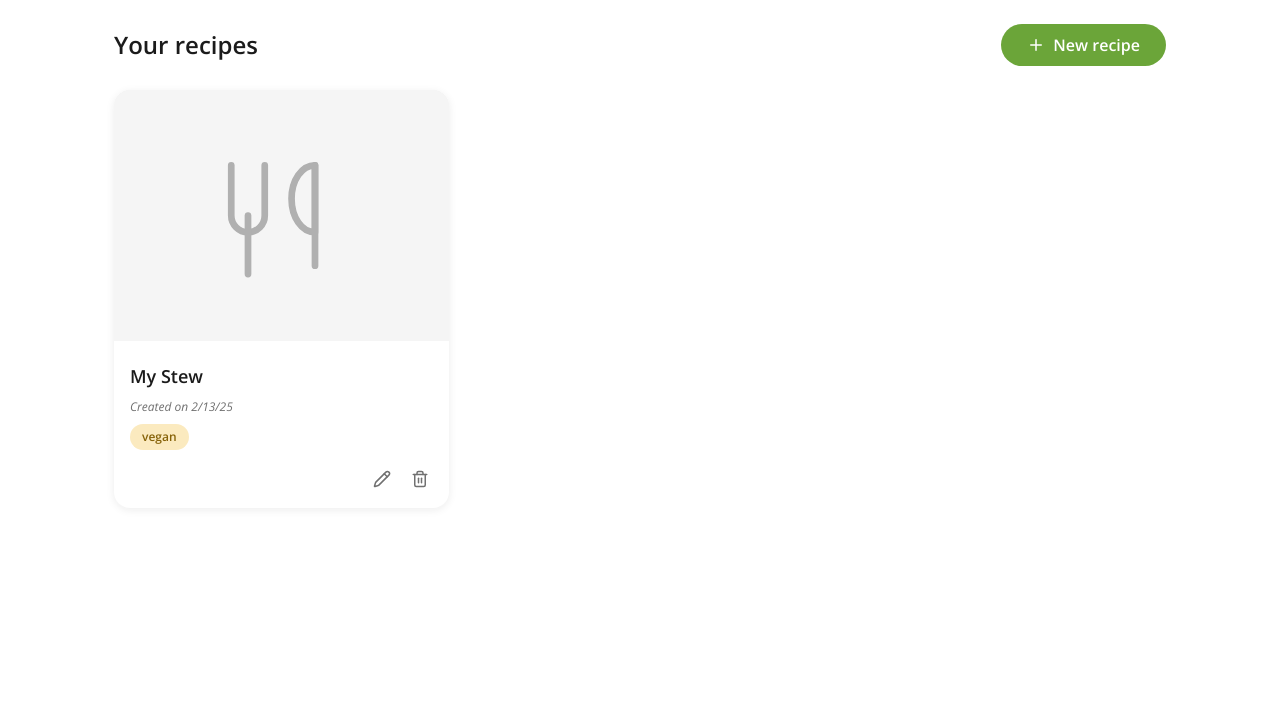
Test: Dashboard page › shows a permission message on a 403 while editing
The width and height of the screenshot is (1280, 720).
Expected: the heading "My Stew" is shown, [130,364,203,388]
Click the button named "Edit My Stew" at (382, 479), box [369,466,395,492]
(page scrolled)
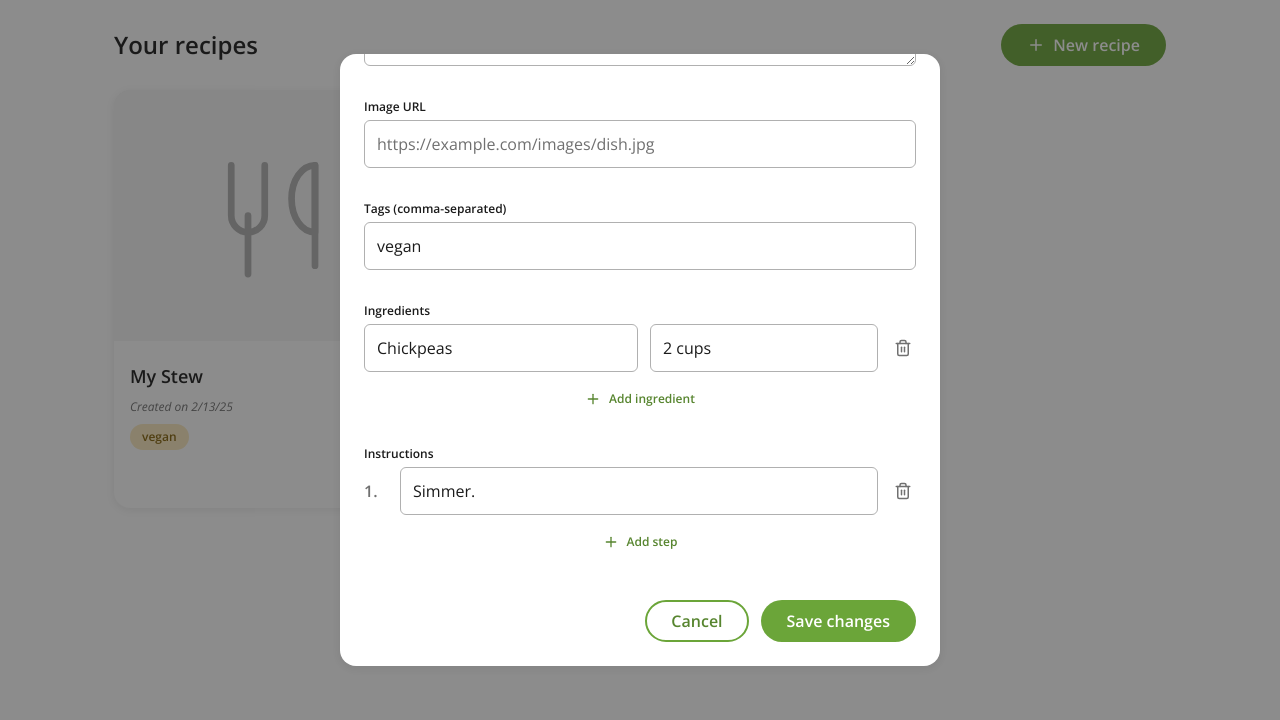
Click the button "Save changes" at (838, 621), box [761,600,916,642]
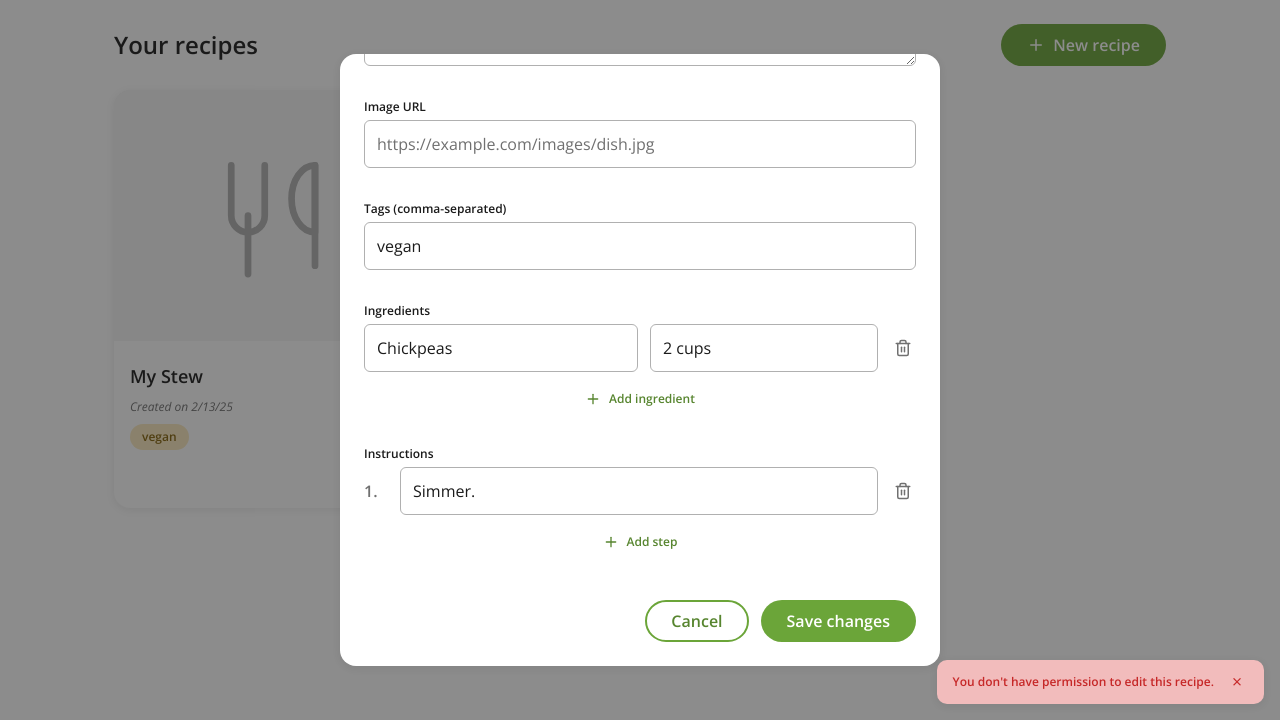
Now the text "You don't have permission to edit this recipe." is shown, box [953,673,1214,691]
